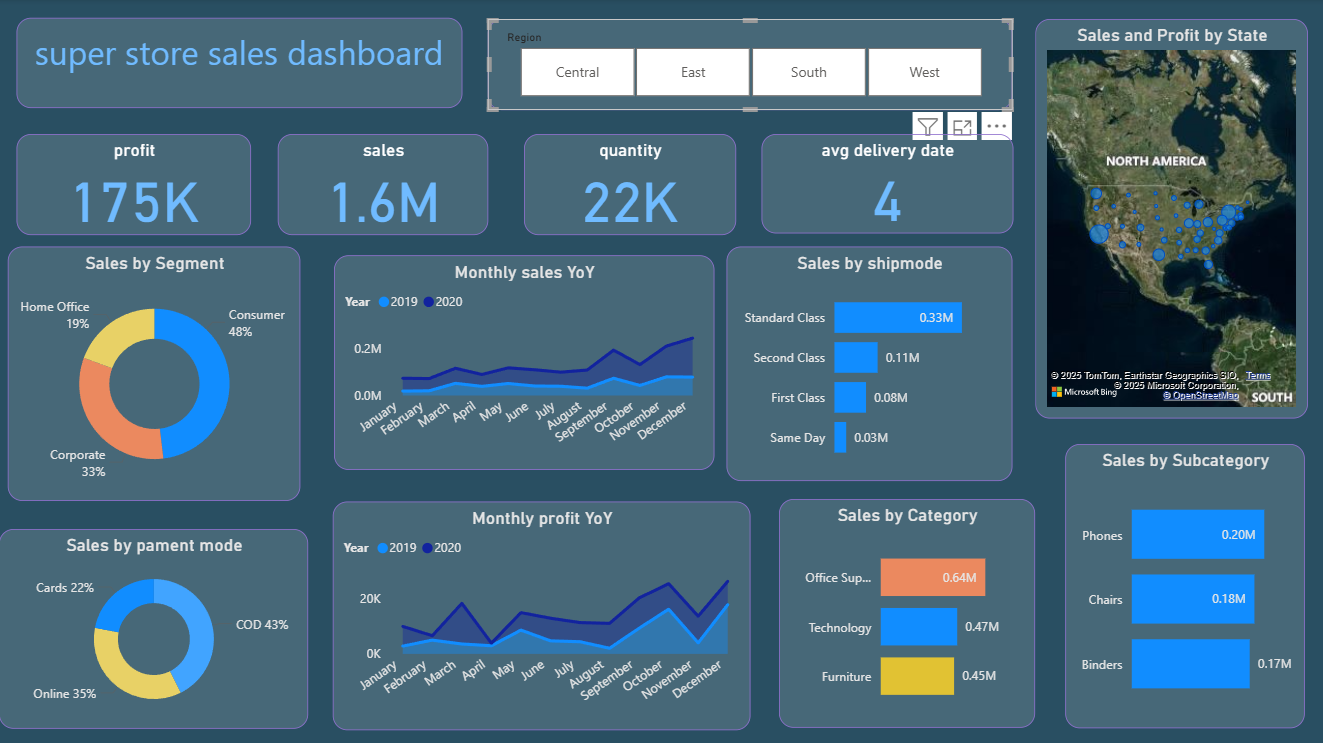

What the dashboard file says about the page in this screenshot:
{"tool":"powerbi","page":{"name":"Page 1","canvas":[1280,720],"ordinal":0},"visuals":[{"type":"clusteredBarChart","title":"Sales by Category","fields":{"Category":["SuperStore_Sales_Dataset.Category"],"Y":["Sum(SuperStore_Sales_Dataset.Sales)"]},"box":[753.3,483,247,220.9],"z":0},{"type":"clusteredBarChart","title":"Sales by Subcategory","fields":{"Category":["SuperStore_Sales_Dataset.Sub-Category"],"Y":["Sum(SuperStore_Sales_Dataset.Sales)"]},"box":[1028.6,430,231.4,274.3],"z":1000},{"type":"clusteredBarChart","title":"Sales by shipmode ","fields":{"Category":["SuperStore_Sales_Dataset.Ship Mode"],"Y":["Sum(SuperStore_Sales_Dataset.Sales)"]},"box":[702.6,238.8,275.8,226.4],"z":2000},{"type":"stackedAreaChart","title":"Monthly sales YoY","fields":{"Y":["Sum(SuperStore_Sales_Dataset.Sales)"],"Category":["SuperStore_Sales_Dataset.Order Date.Variation.Date Hierarchy.Month","SuperStore_Sales_Dataset.Order Date.Variation.Date Hierarchy.Day"],"Series":["SuperStore_Sales_Dataset.Order Date.Variation.Date Hierarchy.Year"]},"box":[322.9,247.1,367.1,207.1],"z":3000},{"type":"stackedAreaChart","title":"Monthly profit YoY","fields":{"Category":["SuperStore_Sales_Dataset.Order Date.Variation.Date Hierarchy.Month","SuperStore_Sales_Dataset.Order Date.Variation.Date Hierarchy.Day"],"Series":["SuperStore_Sales_Dataset.Order Date.Variation.Date Hierarchy.Year"],"Y":["Sum(SuperStore_Sales_Dataset.Profit)"]},"box":[322.5,484.4,403.4,220.9],"z":4000},{"type":"map","title":" Sales and Profit by State","fields":{"Category":["SuperStore_Sales_Dataset.State"],"Size":["Sum(SuperStore_Sales_Dataset.Sales)"]},"box":[1000.3,19.2,263.5,385.6],"z":5000},{"type":"donutChart","title":"Sales by Segment","fields":{"Category":["SuperStore_Sales_Dataset.Segment"],"Y":["Sum(SuperStore_Sales_Dataset.Sales)"]},"box":[8.2,238.8,282.7,245.6],"z":6000},{"type":"donutChart","title":"Sales by pament mode","fields":{"Category":["SuperStore_Sales_Dataset.Payment Mode"],"Y":["Sum(SuperStore_Sales_Dataset.Sales)"]},"box":[0,511.4,298.6,192.9],"z":7000},{"type":"slicer","fields":{"Values":["SuperStore_Sales_Dataset.Region"]},"box":[472,19.2,506.3,87.8],"z":8000},{"type":"textbox","box":[17.1,18.6,430,87.1],"z":9000},{"type":"card","title":"sales","fields":{"Values":["Sum(SuperStore_Sales_Dataset.Sales)"]},"box":[269,130.4,203.1,97.4],"z":10000},{"type":"card","title":"profit","fields":{"Values":["Sum(SuperStore_Sales_Dataset.Profit)"]},"box":[16.5,130.4,226.4,97.4],"z":11000},{"type":"card","title":"quantity","fields":{"Values":["Sum(SuperStore_Sales_Dataset.Quantity)"]},"box":[506.3,130.4,204.5,97.4],"z":12000},{"type":"card","title":"avg delivery date","fields":{"Values":["Avg(SuperStore_Sales_Dataset.avg. delivery)"]},"box":[735.5,130.4,242.9,96.1],"z":13000}]}

Visuals, with their boxes in screenshot pixels (x1, y1, x2, y2), scaled from the page's 1280x720 canvas onto the 1323x743 screenshot:
"Sales by Category" clusteredBarChart: <region>779, 498, 1034, 726</region>
"Sales by Subcategory" clusteredBarChart: <region>1063, 444, 1302, 727</region>
"Sales by shipmode " clusteredBarChart: <region>726, 246, 1011, 480</region>
"Monthly sales YoY" stackedAreaChart: <region>334, 255, 713, 469</region>
"Monthly profit YoY" stackedAreaChart: <region>333, 500, 750, 728</region>
" Sales and Profit by State" map: <region>1034, 20, 1306, 418</region>
"Sales by Segment" donutChart: <region>8, 246, 301, 500</region>
"Sales by pament mode" donutChart: <region>0, 528, 309, 727</region>
slicer - SuperStore_Sales_Dataset.Region: <region>488, 20, 1011, 110</region>
textbox: <region>18, 19, 462, 109</region>
"sales" card: <region>278, 135, 488, 235</region>
"profit" card: <region>17, 135, 251, 235</region>
"quantity" card: <region>523, 135, 735, 235</region>
"avg delivery date" card: <region>760, 135, 1011, 234</region>
